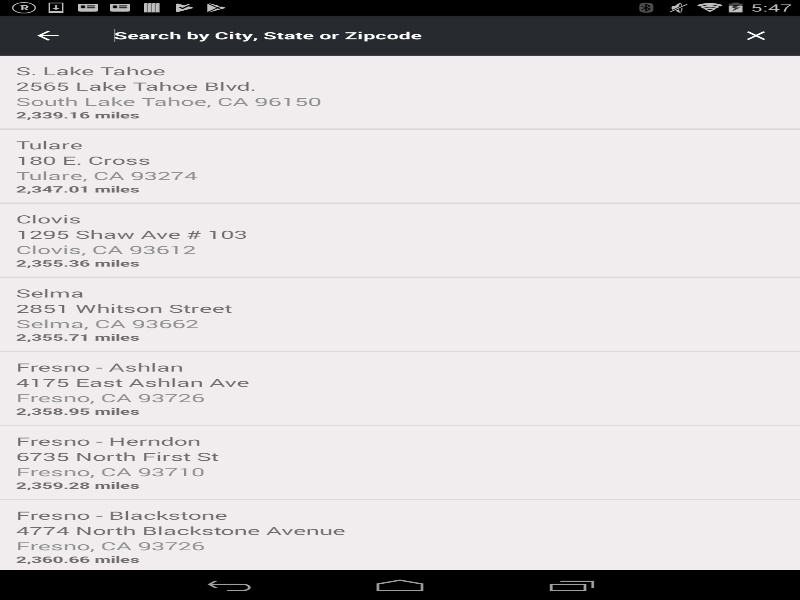Button: (10, 15, 85, 55), (740, 28, 772, 43)
Input: (113, 18, 740, 52)
